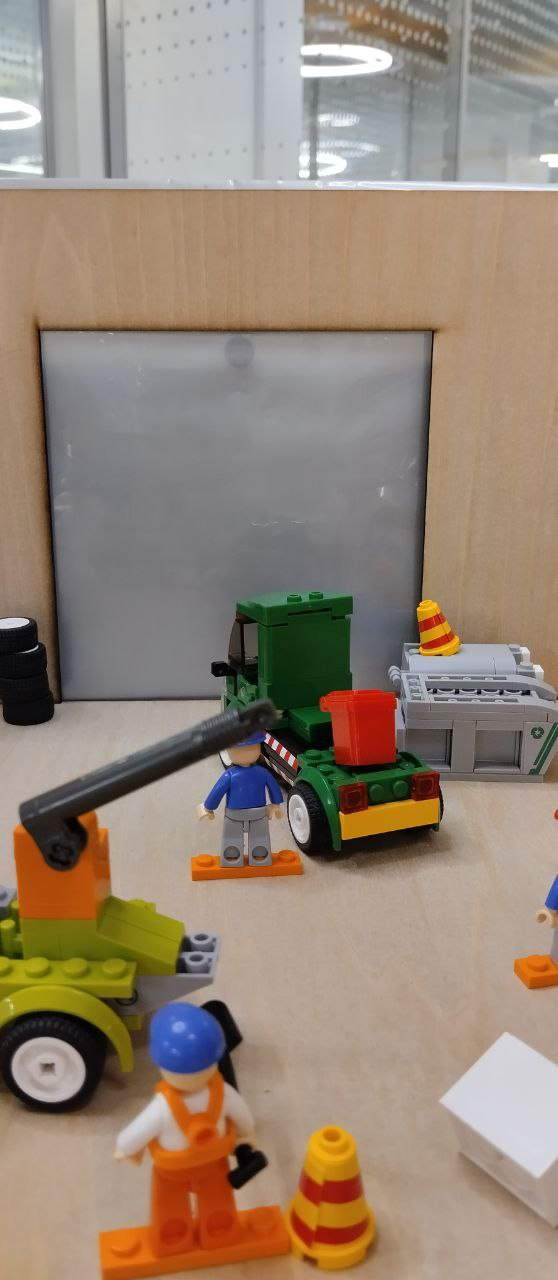Cone: (284, 1125, 379, 1272), (414, 598, 458, 656)
Crane: (1, 702, 287, 1111)
Object Red: (318, 689, 399, 766)
Object white: (436, 1032, 558, 1225)
Truck: (214, 592, 450, 853)
